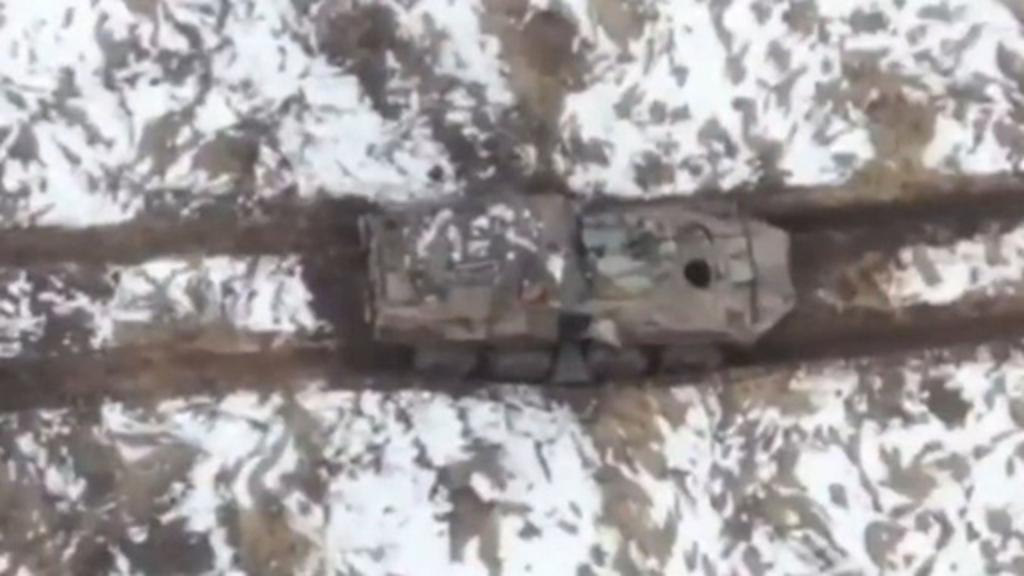APC-IFV: (332, 154, 808, 394)
